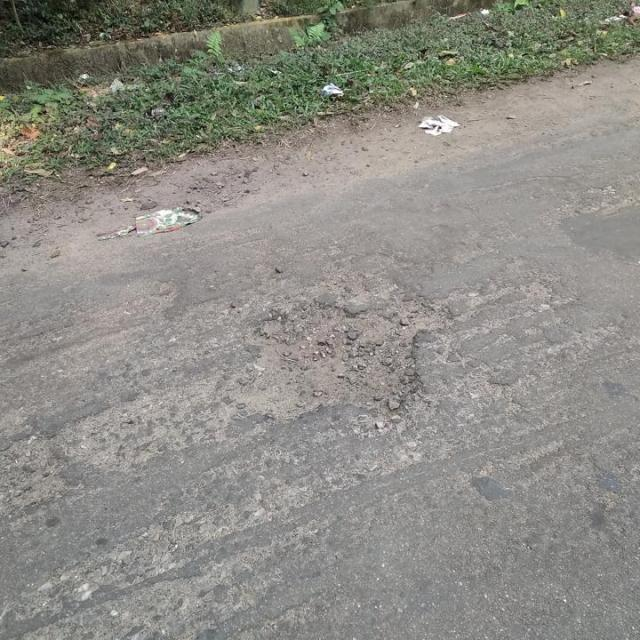pothole: (235, 295, 456, 422)
